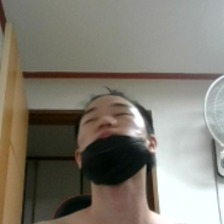OffMask: (76, 124, 157, 192)
